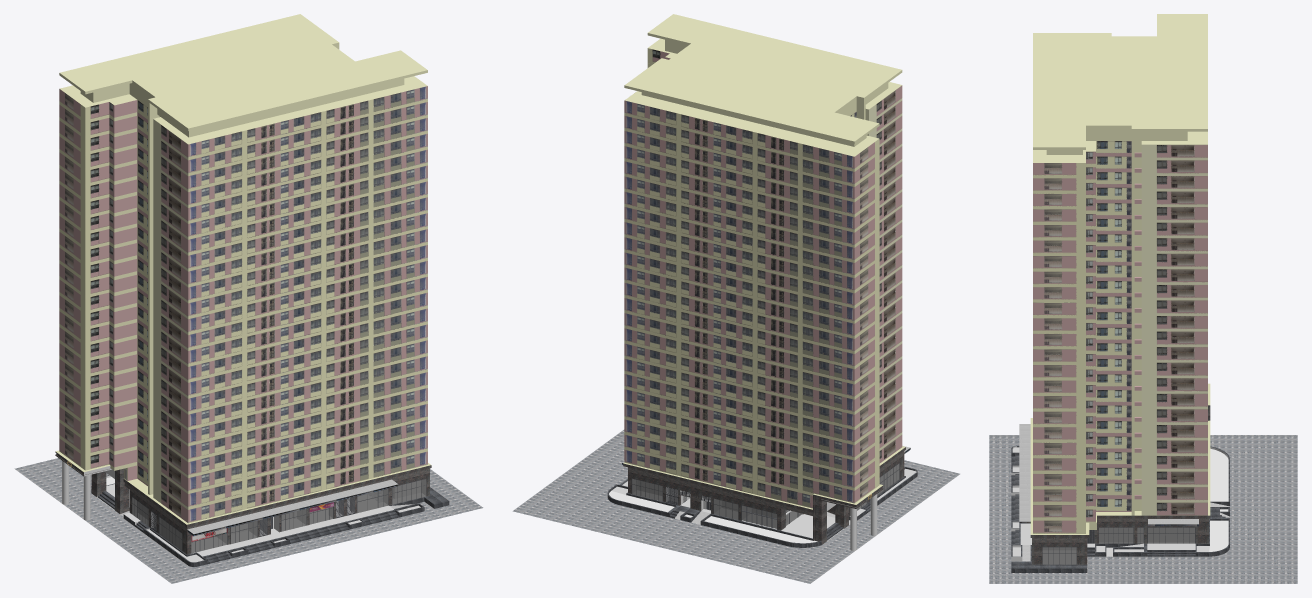
The picture shows the model from 3 angles, left to right: view 1: azimuth 30°, elevation 25°; view 2: azimuth 150°, elevation 25°; view 3: azimuth 270°, elevation 25°; orthographic projection. The views are drawn at different scales.
Visible parts, largest first — view 1: _(Loose Entity), image_176, image_199, image_233, image_287, image_7, image_85, image_14, image_162, image_20, image_216, image_220 (+48 smaller); view 2: _(Loose Entity), image_153, image_264, image_196, image_331, image_1, image_289, image_127, image_159, image_281, image_109, image_268 (+36 smaller); view 3: _(Loose Entity), image_175, image_232, image_283, image_317, image_328, image_128, image_167, image_171, image_181, image_246, image_266 (+64 smaller).
Part boxes in pixels (x1,y1,x2,y2): _(Loose Entity): (14,14,483,583); image_176: (188,282,340,334); image_199: (188,362,340,414); image_233: (188,203,340,255); image_287: (188,218,340,271); image_7: (188,393,340,446); image_85: (188,171,340,223); image_14: (188,139,340,191); image_162: (188,457,340,509); image_20: (188,330,340,382); image_216: (188,425,340,477); image_220: (188,250,340,303); _(Loose Entity): (512,14,959,583); image_153: (624,282,770,333); image_264: (624,404,770,454); image_196: (624,115,770,166); image_331: (624,222,770,272); image_1: (624,313,770,363); image_289: (624,161,770,211); image_127: (624,358,770,409); image_159: (624,100,770,151); image_281: (624,374,770,424); image_109: (624,176,770,227); image_268: (624,267,770,318); _(Loose Entity): (989,14,1297,583); image_175: (1141,175,1207,191); image_232: (1141,284,1207,300); image_283: (1141,393,1207,409); image_317: (1141,144,1207,160); image_328: (1141,424,1207,440); image_128: (1141,440,1207,455); image_167: (1141,487,1207,502); image_171: (1141,362,1207,377); image_181: (1141,191,1207,206); image_246: (1141,378,1207,393); image_266: (1141,222,1207,237).
Bounding box in the file's own units: 62.36 × 81.16 × 53.86.
Materials: 29 (21 with a texture image).
